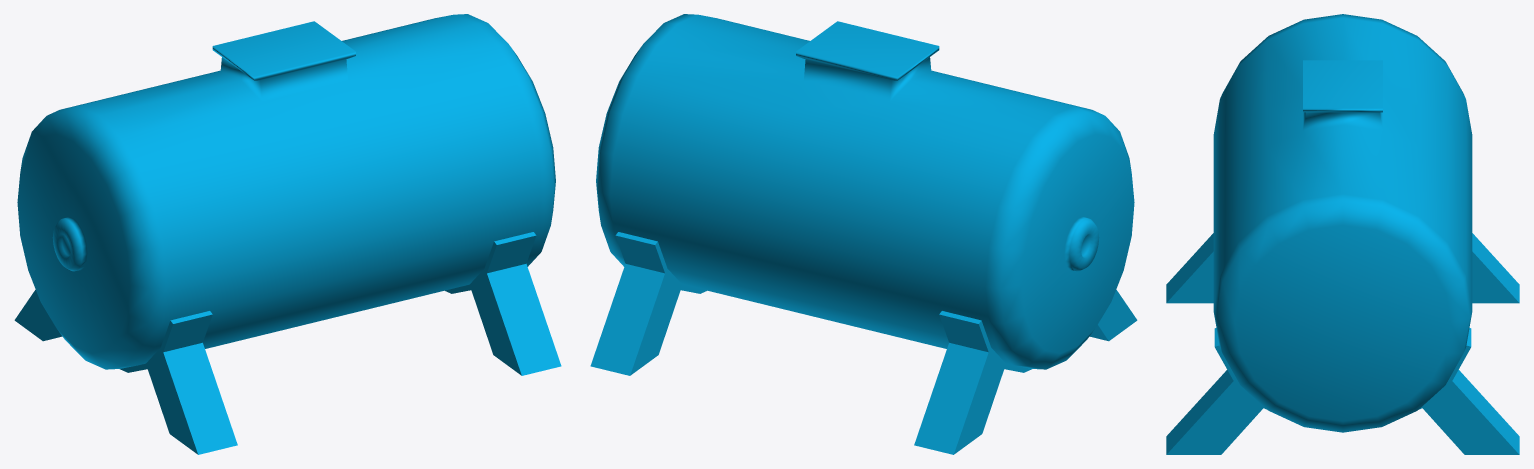
The model's file is Storage_Tank_01_Lod0.fbx.
The picture shows the model from 3 angles, left to right: view 1: azimuth 30°, elevation 25°; view 2: azimuth 150°, elevation 25°; view 3: azimuth 270°, elevation 25°; orthographic projection. The views are drawn at different scales.
Parts seen in each view (by area): view 1: Storage_Tank_01_Lod0; view 2: Storage_Tank_01_Lod0; view 3: Storage_Tank_01_Lod0.
Part boxes in pixels (x1=…): Storage_Tank_01_Lod0: x1=14, y1=14, x2=561, y2=454; Storage_Tank_01_Lod0: x1=590, y1=14, x2=1137, y2=454; Storage_Tank_01_Lod0: x1=1166, y1=14, x2=1519, y2=454.
Bounding box in the file's own units: 327 × 212 × 239.
